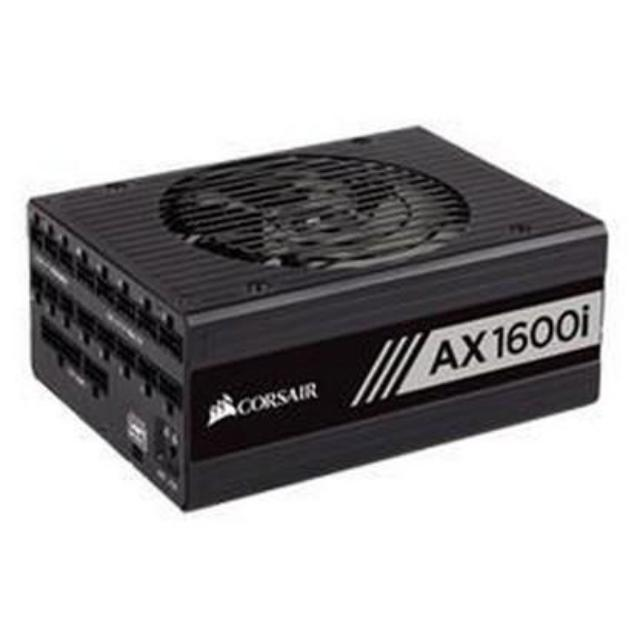PSU: (12, 118, 617, 522)
